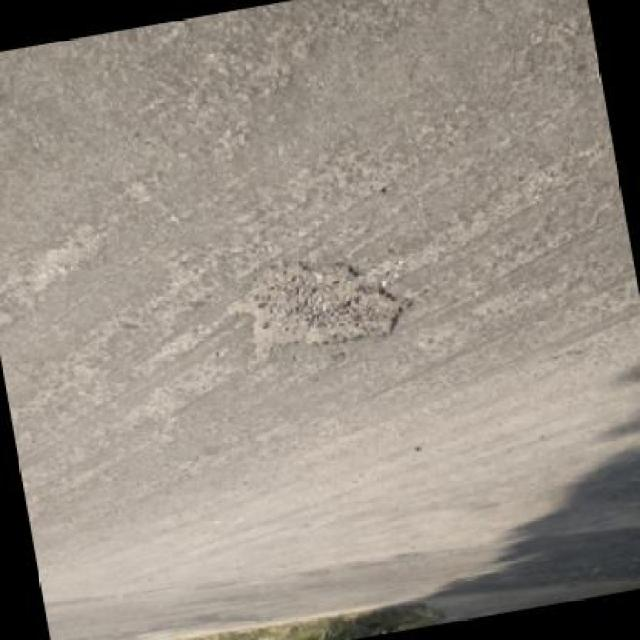pothole: (221, 239, 424, 370)
